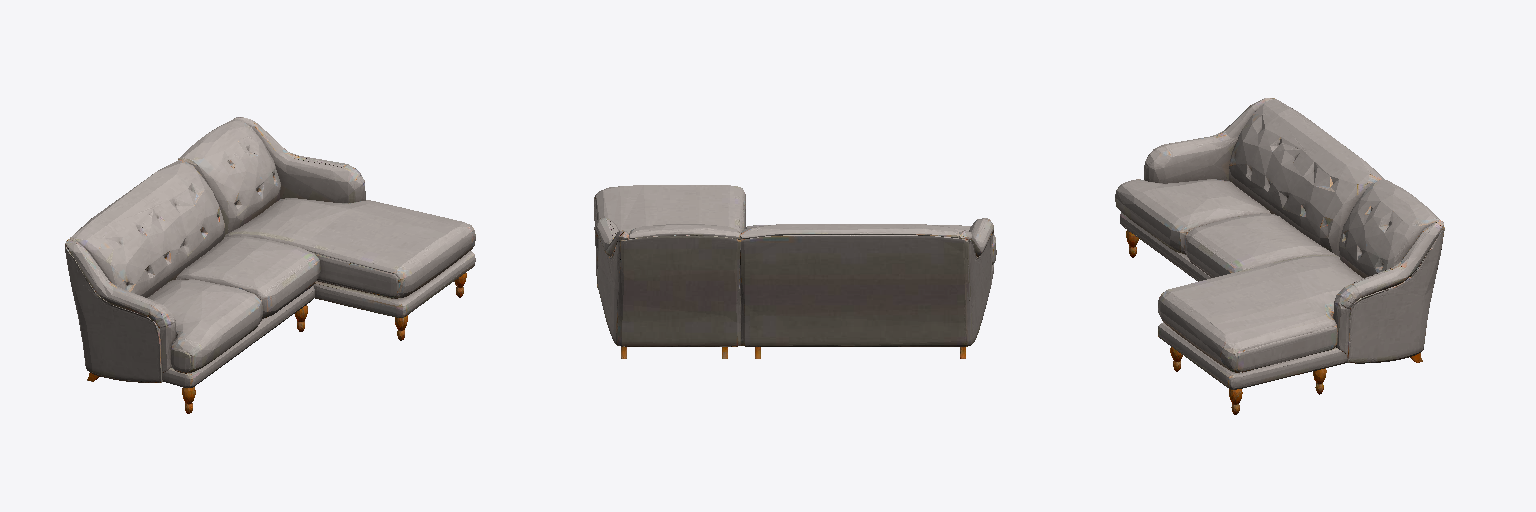
3 views of the same model, side by side, from view 1: azimuth 30°, elevation 25°; view 2: azimuth 150°, elevation 25°; view 3: azimuth 270°, elevation 25° (orthographic).
Bounding box in the file's own units: 2.32 × 0.79 × 1.7.
1 materials, 1 textured.